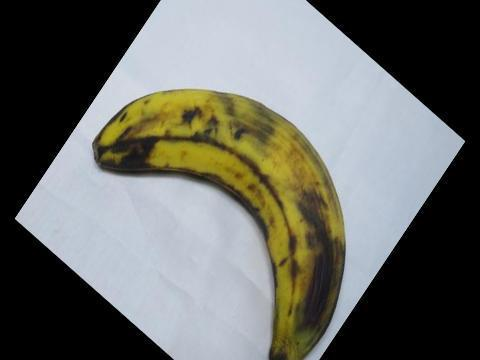overripe: (80, 80, 354, 359)
